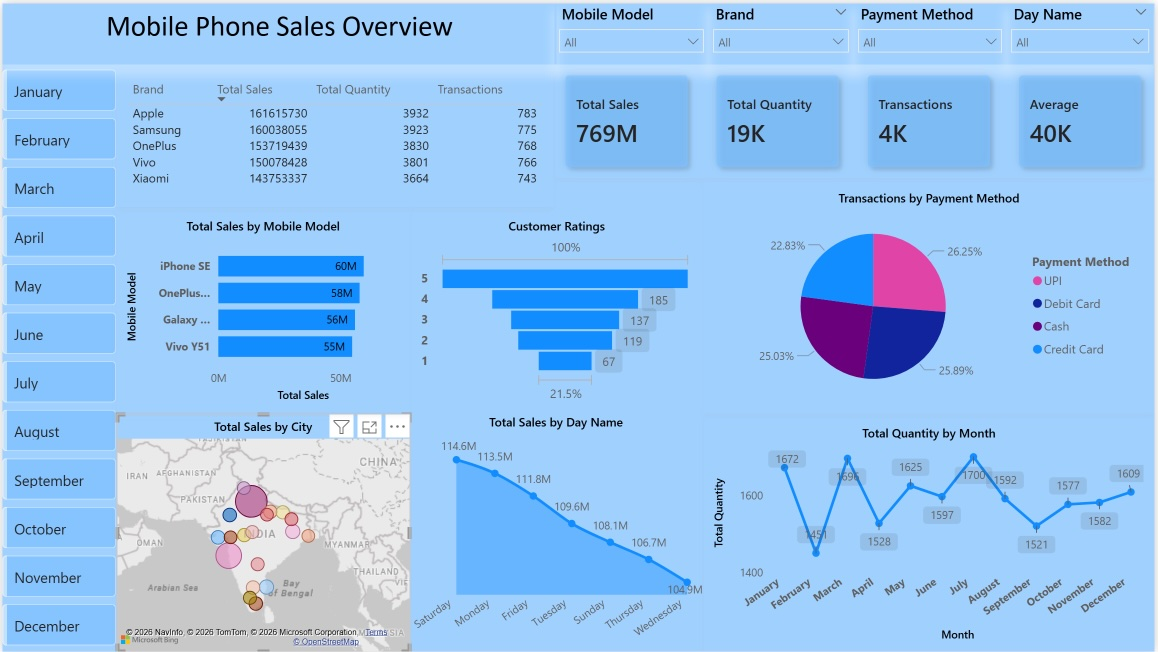

What the dashboard file says about the page in this screenshot:
{"tool":"powerbi","page":{"name":"Page 1","canvas":[1280,720],"ordinal":0},"visuals":[{"type":"areaChart","fields":{"Category":["Sales_data.Day Name"],"Y":["Sales_data.Total Sales"]},"box":[452.6,455.1,325.6,265.4],"z":0},{"type":"advancedSlicerVisual","fields":{"Values":["Sales_data.Date.Variation.Date Hierarchy.Month"]},"box":[0,73.3,126.7,646.7],"z":1000},{"type":"map","title":"Total Sales by City","fields":{"Category":["Sales_data.City"],"Size":["Sales_data.Total Sales"]},"box":[127,455,326,266],"z":2000},{"type":"lineChart","fields":{"Category":["Sales_data.Date.Variation.Date Hierarchy.Month"],"Y":["Sales_data.Total Quantity"]},"box":[779,455,501,265],"z":3000},{"type":"pieChart","fields":{"Category":["Sales_data.Payment Method"],"Y":["Sales_data.Transactions"]},"box":[779,194,501,261],"z":4000},{"type":"barChart","fields":{"Category":["Sales_data.Mobile Model"],"Y":["Sales_data.Total Sales"]},"box":[127,226,326,229],"z":5000},{"type":"slicer","fields":{"Values":["Sales_data.Mobile Model"]},"box":[613.3,0,171.1,67.8],"z":6000},{"type":"slicer","fields":{"Values":["Sales_data.Payment Method"]},"box":[945.6,0,170,67.8],"z":7000},{"type":"slicer","fields":{"Values":["Sales_data.Brand"]},"box":[784.4,0,161.1,67.8],"z":8000},{"type":"slicer","fields":{"Values":["Sales_data.Day Name"]},"box":[1115.6,0,163.3,67.8],"z":9000},{"type":"cardVisual","fields":{"Data":["Sales_data.Total Sales","Sales_data.Total Quantity","Sales_data.Transactions","Sales_data.Average"]},"box":[613,68,666,126],"z":10000},{"type":"tableEx","fields":{"Values":["Sales_data.Brand","Sales_data.Total Sales","Sales_data.Total Quantity","Sales_data.Transactions"]},"box":[127,73,486,153],"z":11000},{"type":"funnel","title":"Customer Ratings","fields":{"Y":["CountNonNull(Sales_data.Customer Ratings)"],"Category":["Sales_data.Customer Ratings"]},"box":[453,226,325,229],"z":12000},{"type":"textbox","box":[0,0,615.6,67.8],"z":13000}]}

Visuals, with their boxes in screenshot pixels (x1, y1, x2, y2), scaled from the page's 1280x720 canvas onto the 1158x652 screenshot:
areaChart - Sales_data.Day Name x Sales_data.Total Sales: [409,412,704,651]
advancedSlicerVisual - Sales_data.Date.Variation.Date Hierarchy.Month: [0,66,115,651]
"Total Sales by City" map: [115,412,410,651]
lineChart - Sales_data.Date.Variation.Date Hierarchy.Month x Sales_data.Total Quantity: [705,412,1157,651]
pieChart - Sales_data.Payment Method x Sales_data.Transactions: [705,176,1157,412]
barChart - Sales_data.Mobile Model x Sales_data.Total Sales: [115,205,410,412]
slicer - Sales_data.Mobile Model: [555,0,710,61]
slicer - Sales_data.Payment Method: [855,0,1009,61]
slicer - Sales_data.Brand: [710,0,855,61]
slicer - Sales_data.Day Name: [1009,0,1157,61]
cardVisual - Sales_data.Total Sales x Sales_data.Total Quantity: [555,62,1157,176]
tableEx - Sales_data.Brand x Sales_data.Total Sales: [115,66,555,205]
"Customer Ratings" funnel: [410,205,704,412]
textbox: [0,0,557,61]
